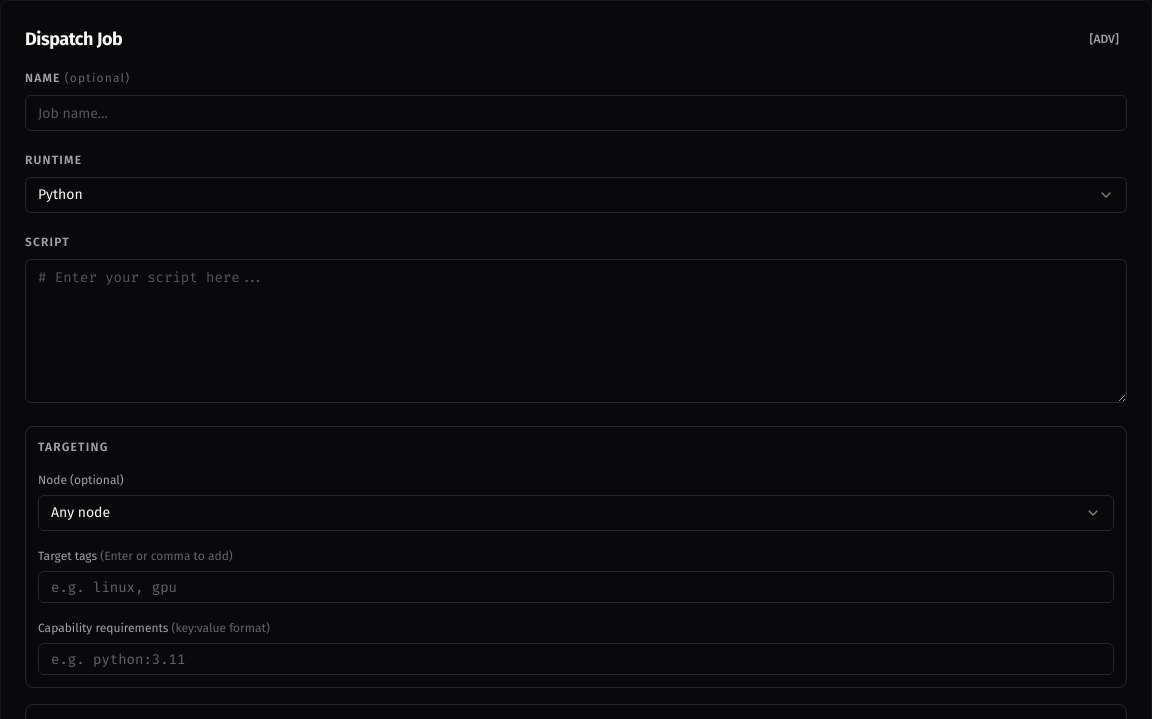
GuidedDispatchCard › ADV button shows confirmation dialog before switching to Advanced mode
Expected: the text "switch to advanced mode" is not shown
Note: Click ADV — dialog opens
Click the button with aria-label "advanced mode". click: (1104, 39)
box: [1081,25,1127,53]
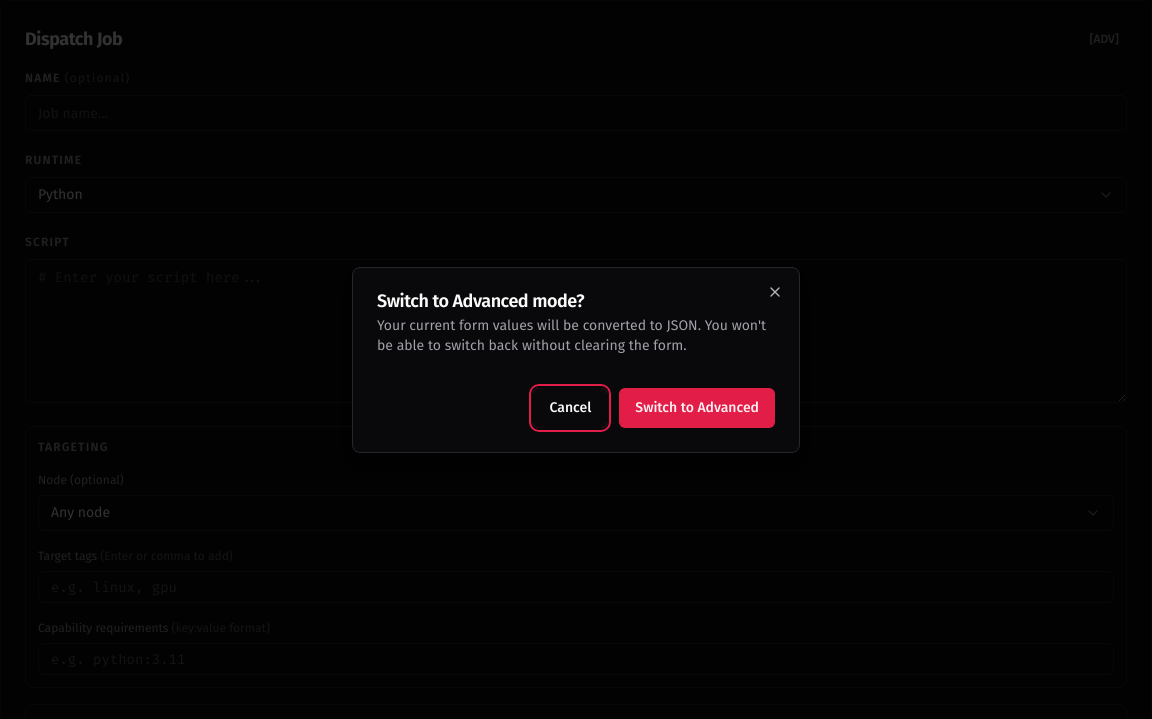
Now the heading "Switch to Advanced mode?" is shown, box [377,290,584,312]
Note: Cancel — dialog closes, guided form still visible
Click the button "Cancel". click: (570, 408)
box: [534,388,607,428]
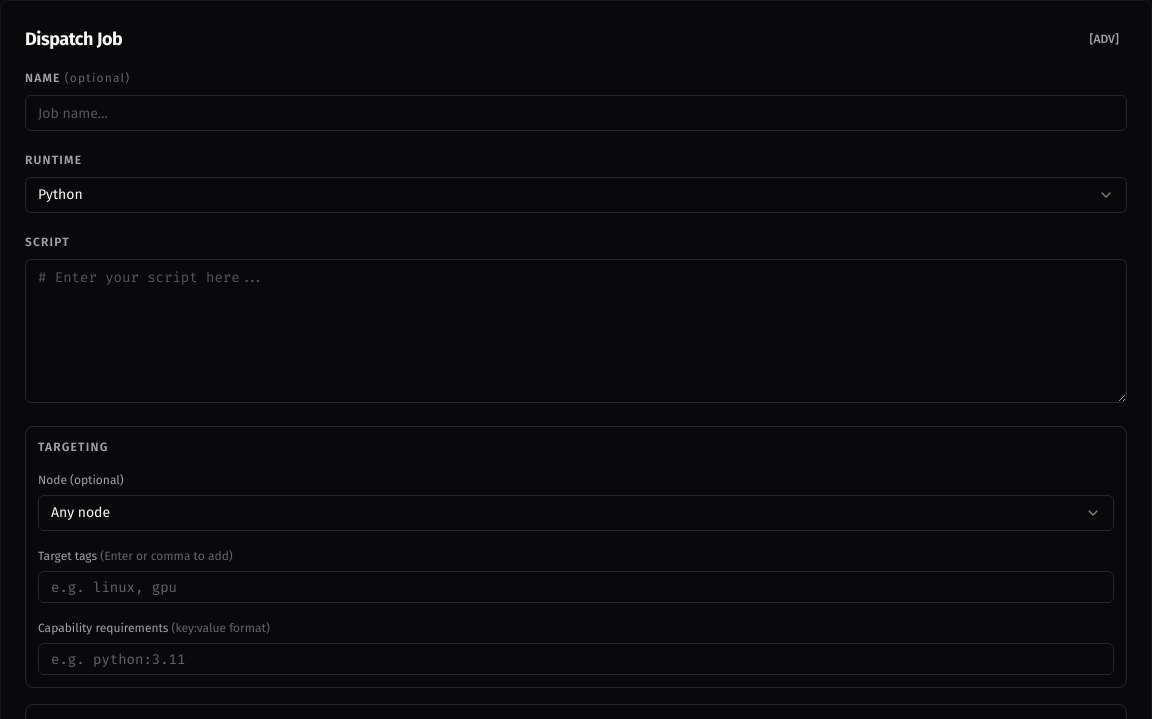
Expected: the text box named "script content" is shown, [25,259,1127,403]
Now the heading "Switch to Advanced mode?" is gone
